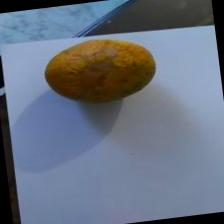Orange Rotten: (34, 24, 163, 114)
